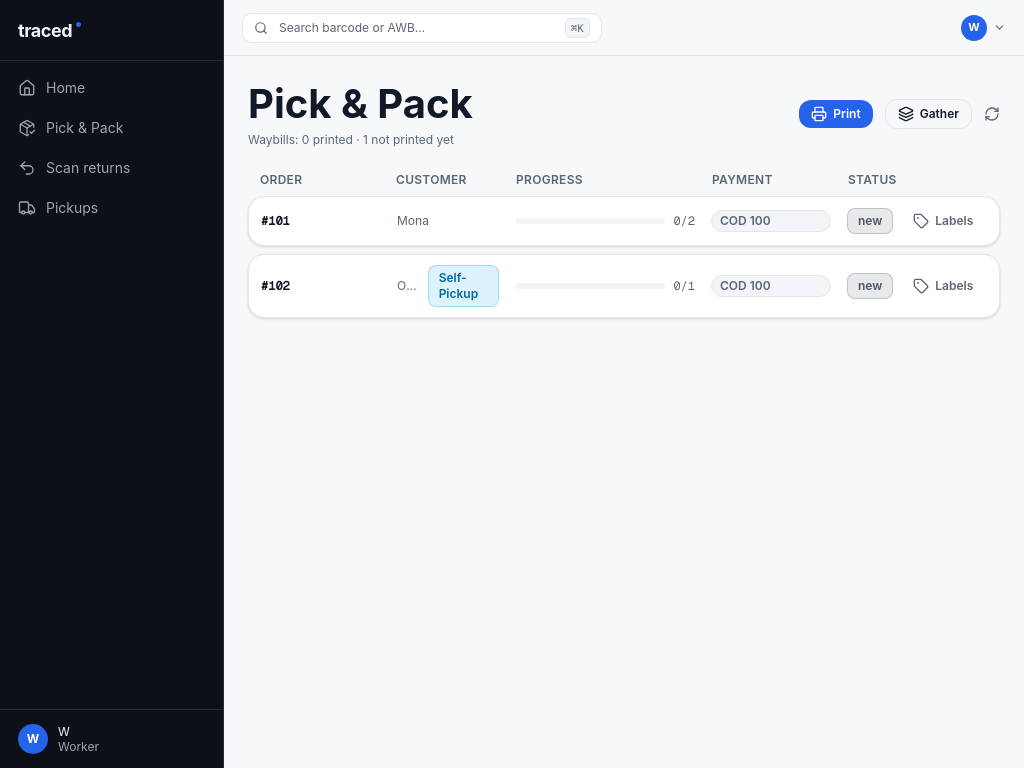
Scenario: Print labels — queue › pl1 — "Print labels" shows the summary, prints and opens the PDF; a row prints one order
Click the button "Labels" in the row of "Mona" at (943, 221), box [901,207,985,235]
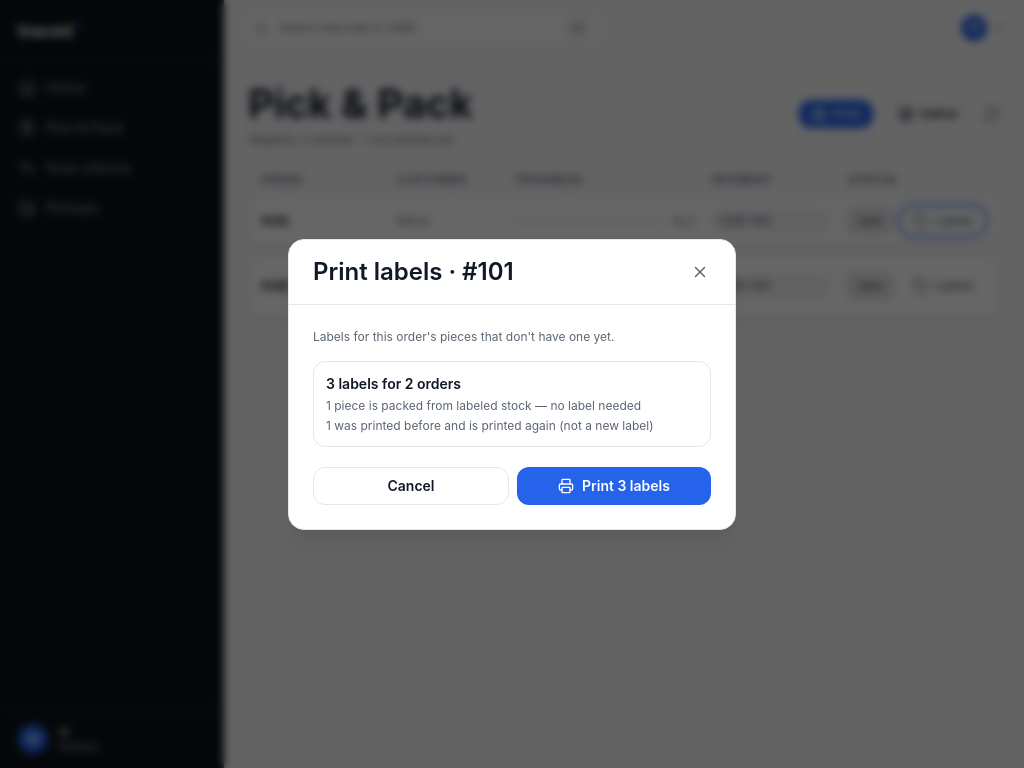
Expected: the element with test id "print-labels-summary" shows "3 labels for 2 orders", [326,374,461,392]
Expected: the element with test id "print-labels-dialog" shows "1 piece is packed from labeled stock", [326,398,641,412]
Expected: the element with test id "print-labels-dialog" shows "1 was printed before", [326,418,654,432]
Click the button "Print 3 labels" at (614, 486), box [517,466,711,504]
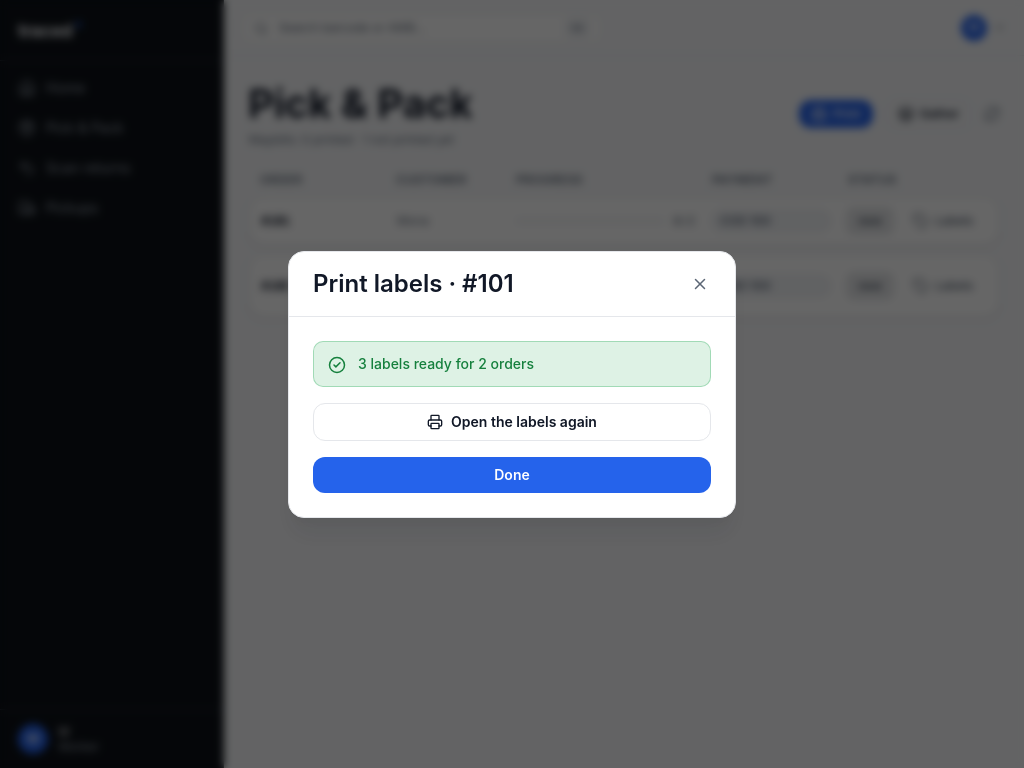
Click the button "Done" at (512, 474), box [313,456,711,492]
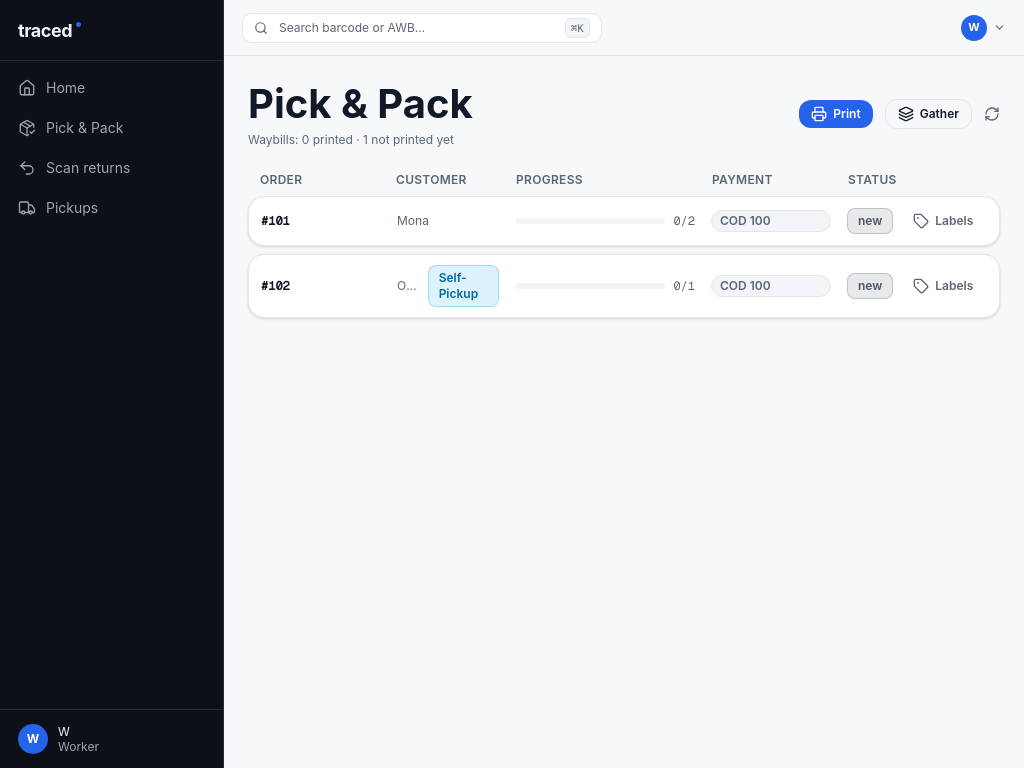
Click the button "Labels" in the row of "Self-Pickup" at (943, 286), box [901,272,985,300]
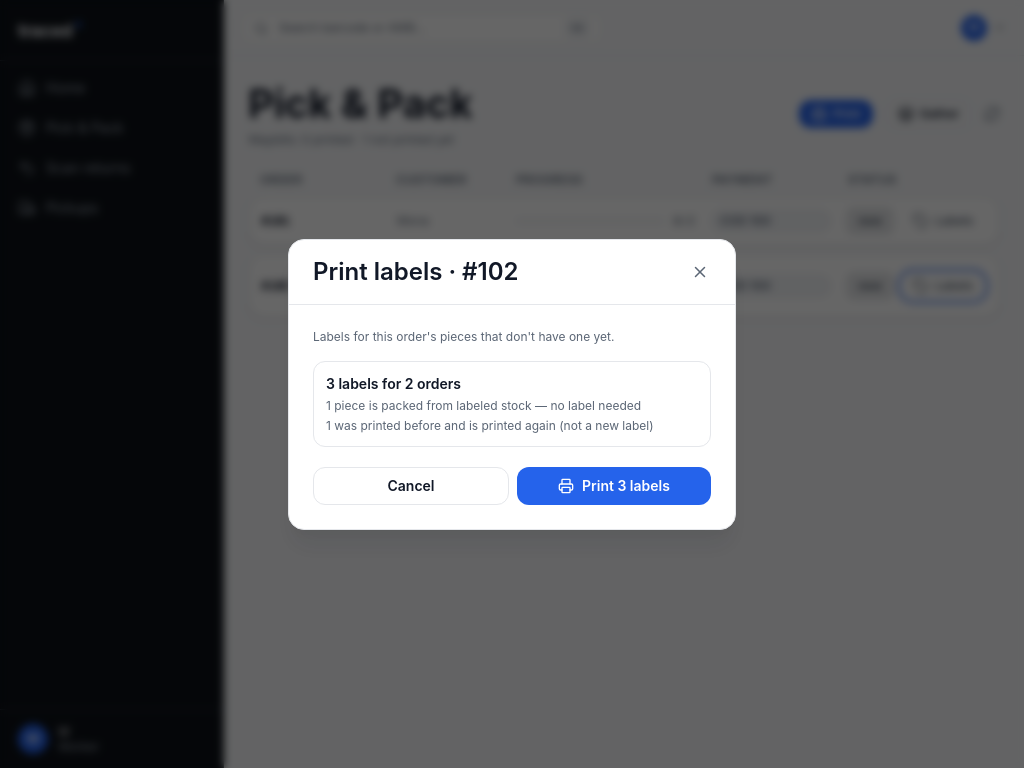
Expected: the element with test id "print-labels-dialog" is shown, [313,328,711,504]
